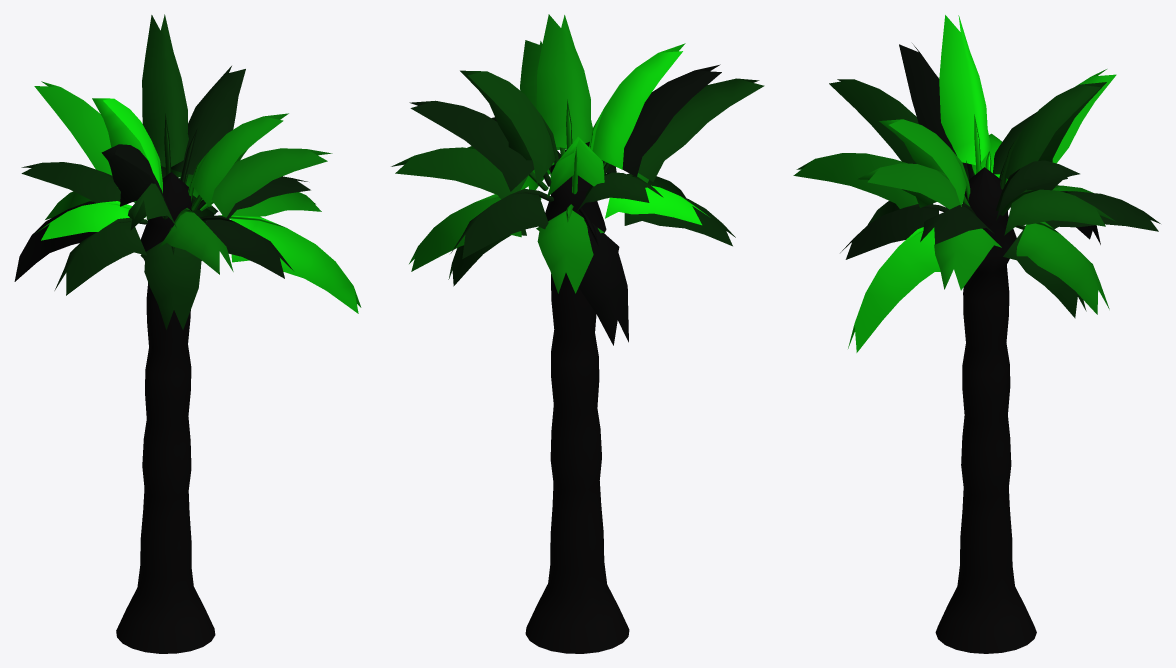
The model's file is M_P10_Tree_5.fbx.
The picture shows the model from 3 angles, left to right: view 1: azimuth 30°, elevation 25°; view 2: azimuth 150°, elevation 25°; view 3: azimuth 270°, elevation 25°; orthographic projection. The views are drawn at different scales.
Visible parts, largest first — view 1: Palm_1_5; view 2: Palm_1_5; view 3: Palm_1_5.
Boxes of the visible parts, <box> form: Palm_1_5: <box>14,14,361,653</box>; Palm_1_5: <box>391,14,764,653</box>; Palm_1_5: <box>793,15,1160,653</box>.
Size of the model in its own units: 264 by 533 by 309.
